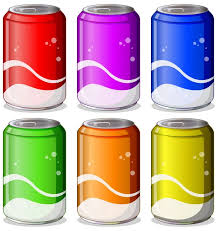can: (2, 4, 215, 226)
